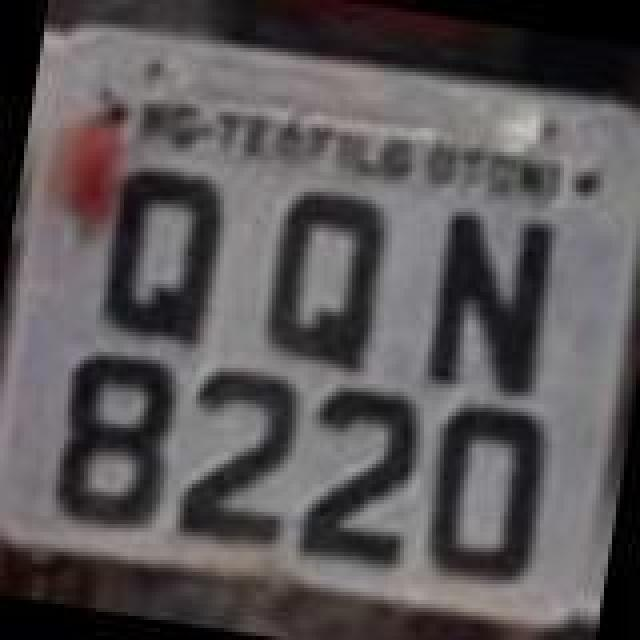2: (170, 358, 310, 554), (292, 382, 428, 578)
8: (48, 340, 184, 540)
N: (414, 202, 562, 398)
O: (416, 392, 560, 592)
Q: (254, 180, 402, 380), (90, 156, 230, 340)
